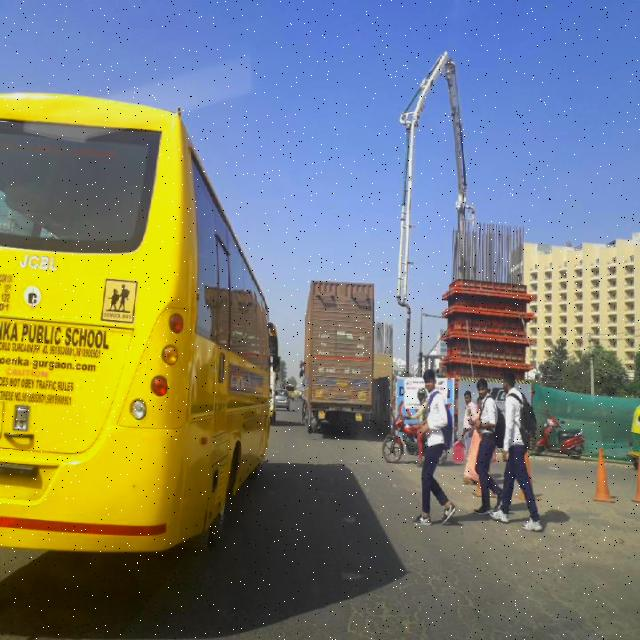D20: (322, 524, 636, 634)
